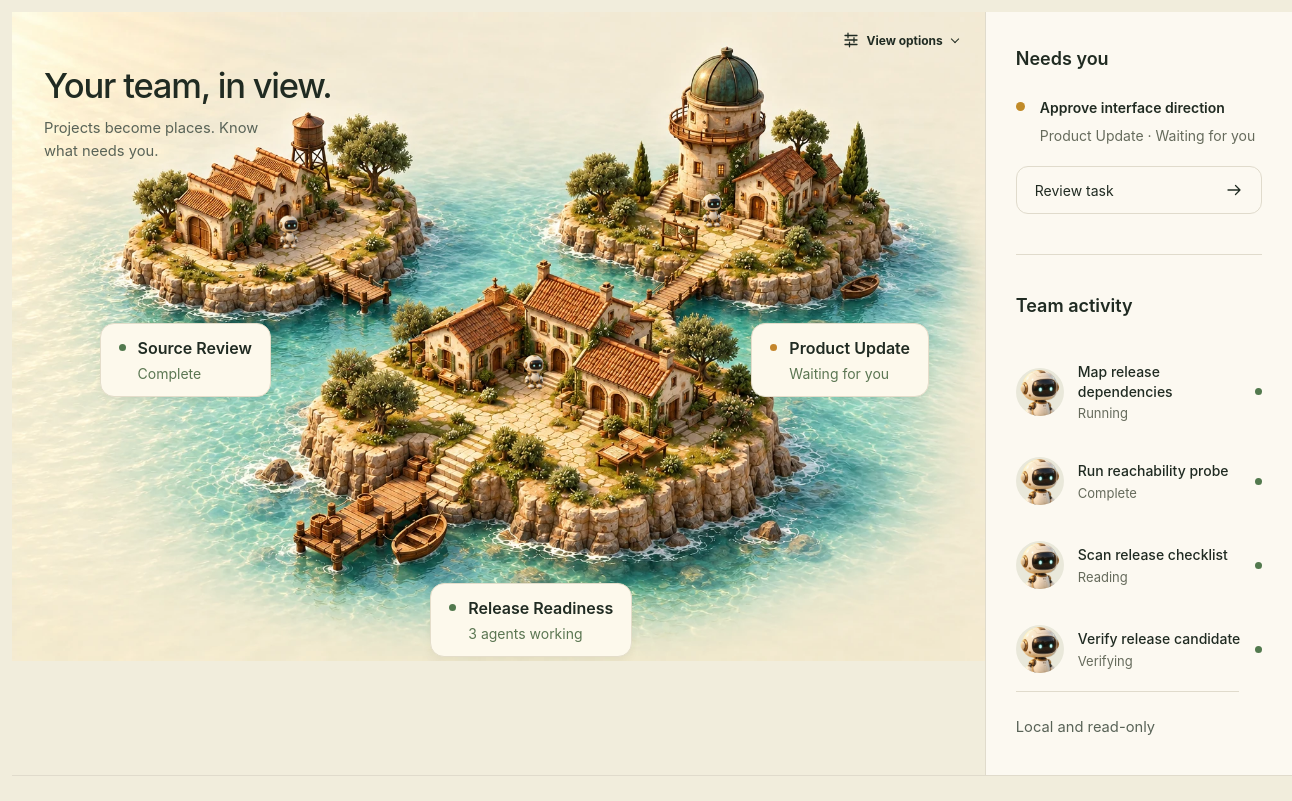
Test: semantic agent world › shows every project and every root task as named controls in the overview
Expected: the text "Release Readiness" is shown, [468,598,613,618]
Expected: the text "Product Update" is shown, [789,338,910,358]
What coordinates should you click on to do the following:
click the heading "View options"
I would click on:
 (893, 40)
Its box is [842,31,943,49].
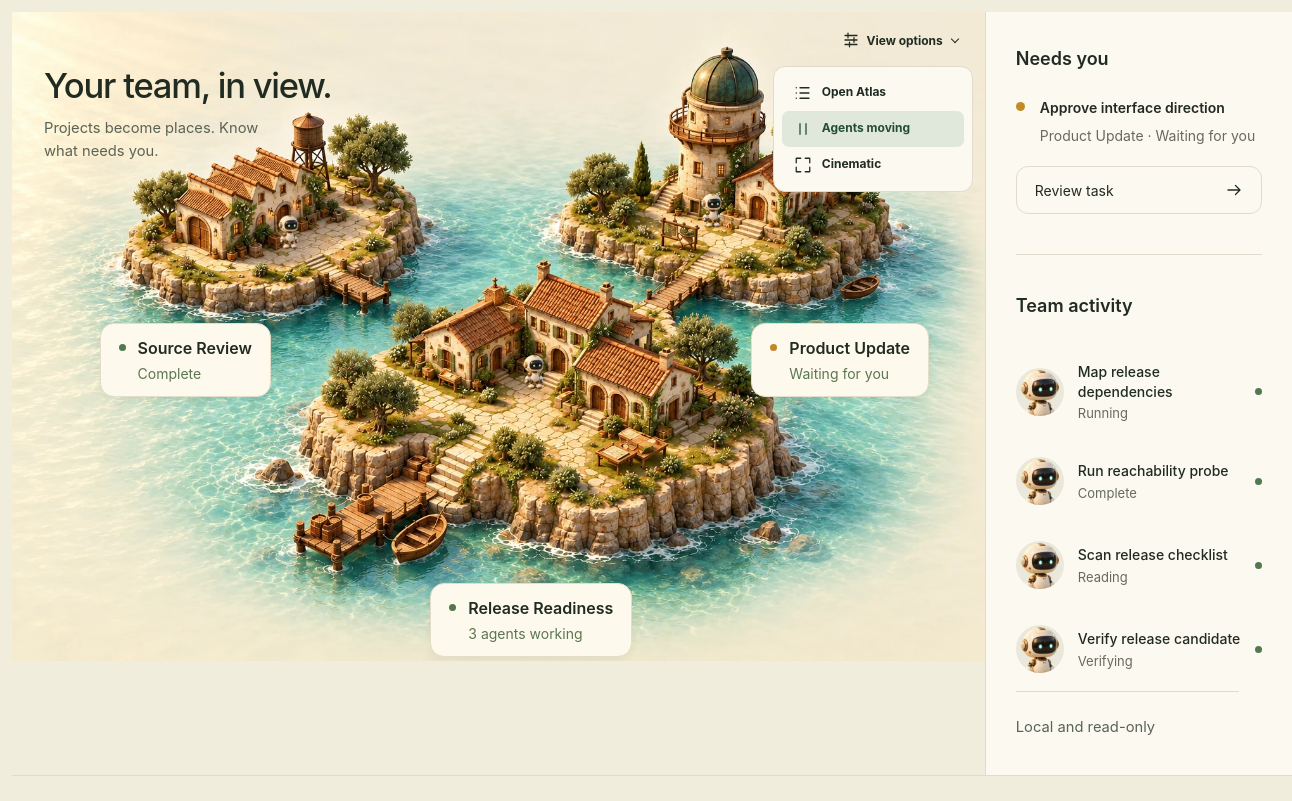
What coordinates should you click on to do the following:
click the button "Open Atlas"
I would click on:
 (873, 93)
Its box is [782,75,964,111].
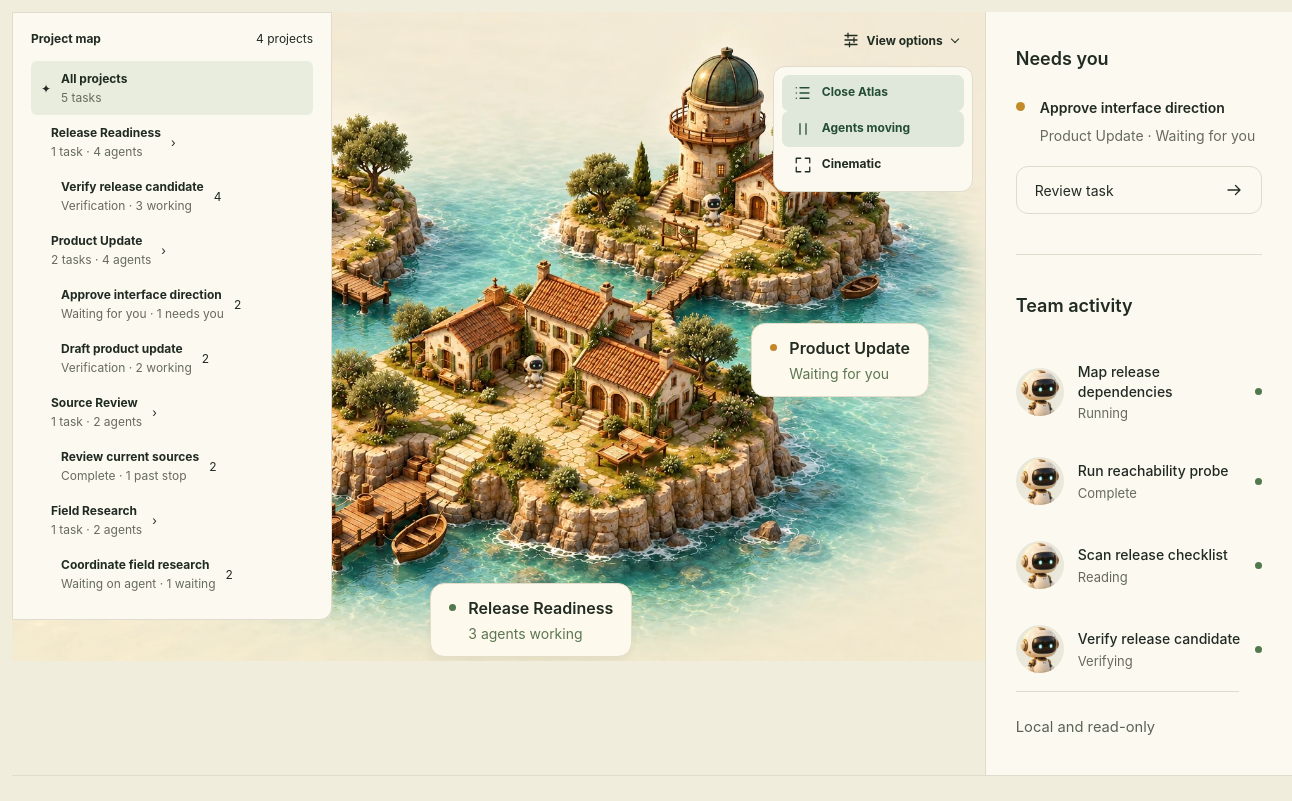
Now the navigation bar named "Project and task hierarchy" is shown, box [12,12,332,620]
Now the 1st text "Verify release candidate" is shown, box [61,179,204,194]
Now the 2nd text "Approve interface direction" is shown, box [61,287,224,302]
